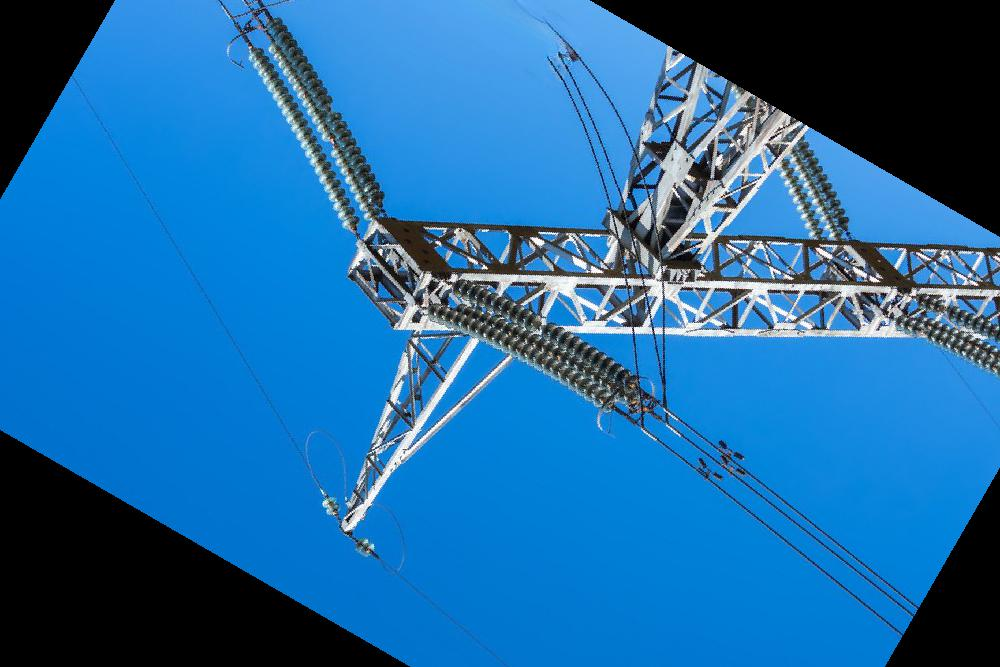insulator: (258, 13, 389, 223), (445, 275, 647, 401), (423, 298, 621, 416), (244, 41, 364, 235), (771, 130, 861, 248), (897, 308, 1000, 376), (906, 287, 1000, 346)
insulator_stringdrop: (522, 310, 560, 341), (315, 93, 345, 126), (319, 127, 348, 159), (931, 296, 960, 324)
